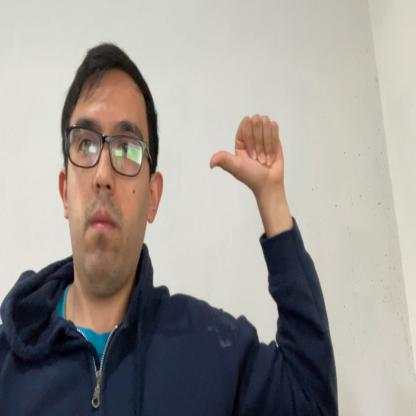A: (208, 112, 286, 197)
